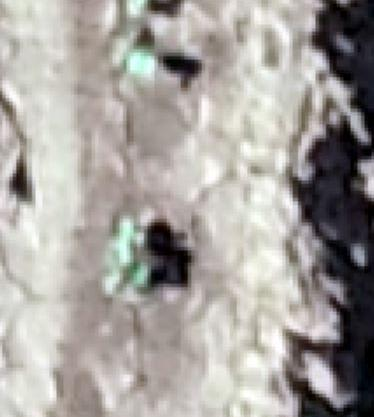cotton: (125, 48, 157, 70), (118, 270, 148, 288), (120, 224, 136, 256)
